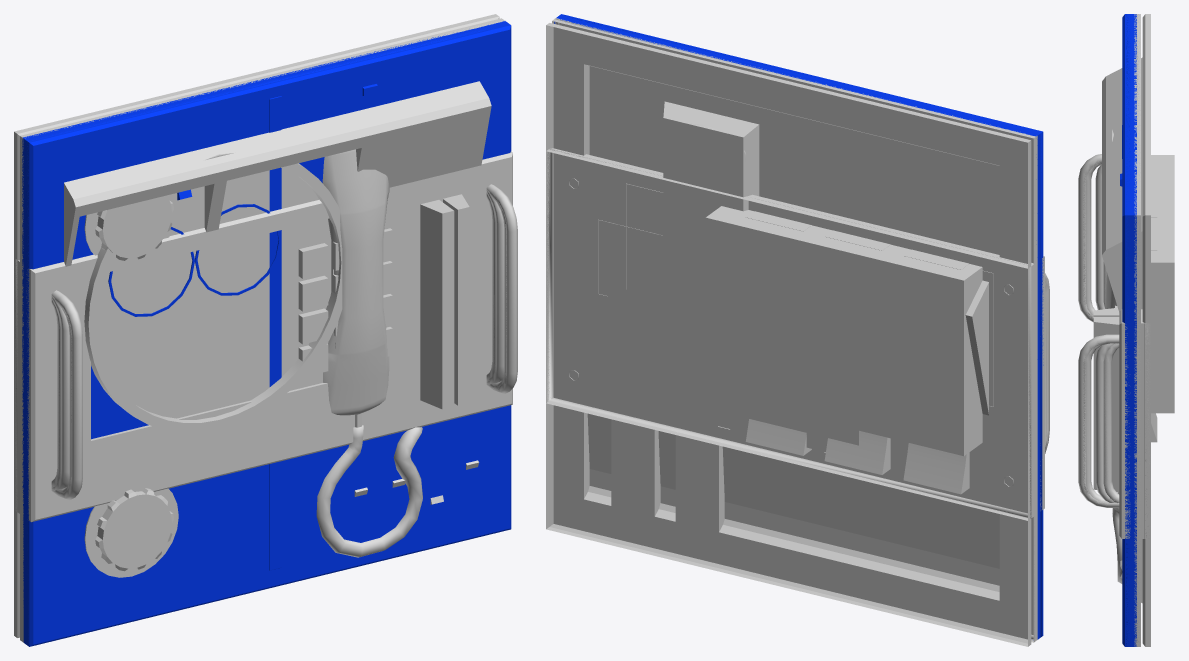
Rendered from models.FBX.
The picture shows the model from 3 angles, left to right: view 1: azimuth 30°, elevation 25°; view 2: azimuth 150°, elevation 25°; view 3: azimuth 270°, elevation 25°; orthographic projection. The views are drawn at different scales.
Parts seen in each view (by area): view 1: panel1, panel10, panel8, panel3, panel15, panel11, panel13, panel12, panel4, panel14, panel5, panel2 (+2 smaller); view 2: panel15, panel10, panel6, panel12, panel7, panel11, panel14, panel5, panel9, panel4, panel13, panel1 (+2 smaller); view 3: panel10, panel15, panel13, panel1, panel14, panel4, panel8, panel11, panel2, panel6, panel7, panel5 (+2 smaller).
Boxes of the visible parts, x1,y1,x2,y2 form: panel1: (26, 23, 511, 646); panel10: (27, 151, 517, 522); panel8: (20, 18, 504, 641); panel3: (33, 30, 509, 643); panel15: (14, 14, 499, 637); panel11: (20, 19, 504, 642); panel13: (26, 184, 507, 520); panel12: (20, 20, 502, 639); panel4: (22, 21, 507, 643); panel14: (17, 189, 504, 514); panel5: (25, 26, 493, 645); panel2: (24, 22, 508, 643); panel15: (546, 23, 1031, 646); panel10: (705, 206, 1049, 509); panel6: (546, 149, 1031, 520); panel12: (552, 18, 1035, 642); panel7: (546, 148, 1031, 520); panel11: (553, 18, 1037, 641); panel14: (551, 148, 1034, 517); panel5: (558, 15, 1042, 638); panel9: (546, 149, 1030, 520); panel4: (554, 17, 1039, 639); panel13: (965, 279, 1047, 510); panel1: (558, 14, 1043, 635); panel10: (1078, 154, 1174, 538); panel15: (1102, 14, 1150, 646); panel13: (1083, 160, 1130, 538); panel1: (1122, 14, 1130, 646); panel14: (1095, 160, 1157, 538); panel4: (1122, 14, 1136, 646); panel8: (1112, 14, 1140, 646); panel11: (1105, 14, 1139, 646); panel2: (1120, 14, 1132, 646); panel6: (1104, 265, 1150, 535); panel7: (1103, 262, 1150, 538); panel5: (1126, 14, 1131, 643).
Bounding box in the file's own units: 50 × 50 × 10.12.
